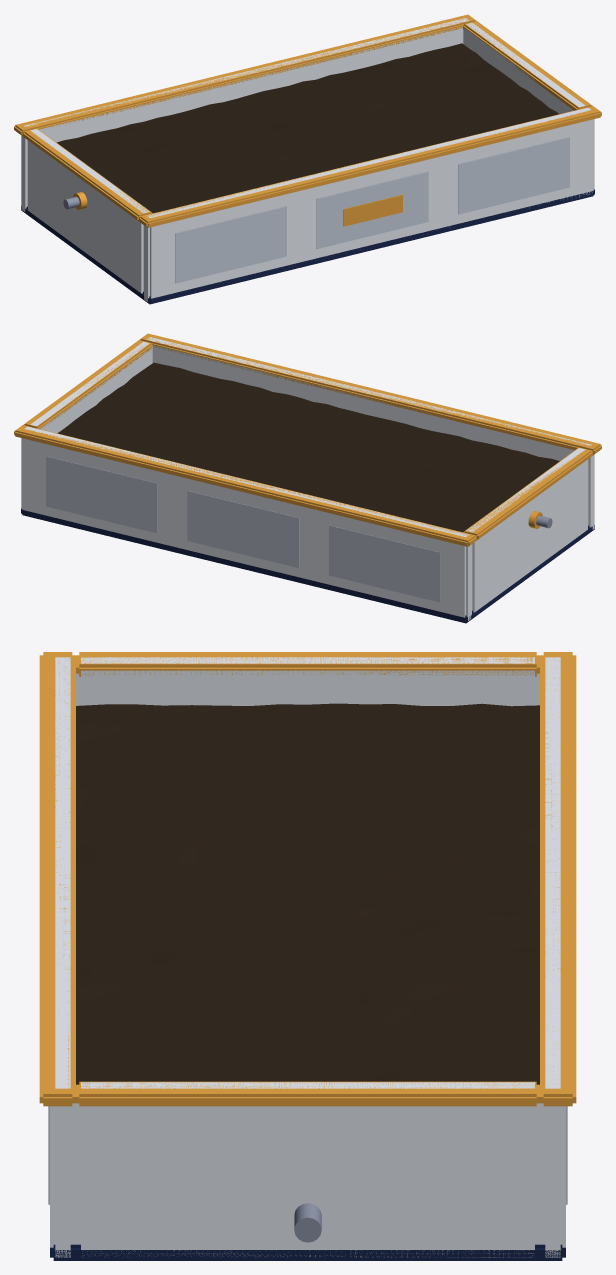
The model's file is planter_tray.glb.
3 renders of one model, top to bottom at view 1: azimuth 30°, elevation 25°; view 2: azimuth 150°, elevation 25°; view 3: azimuth 270°, elevation 25°, orthographic. The views are drawn at different scales.
Visible parts, largest first — view 1: Soil_Dark, Body_White, Body_Dim, Trim_Gold, Base_Midnight; view 2: Soil_Dark, Body_White, Body_Dim, Trim_Gold, Base_Midnight; view 3: Soil_Dark, Body_White, Trim_Gold, Base_Midnight, Steel.
Part boxes in pixels (x1=…): Soil_Dark: x1=57, y1=43, x2=559, y2=213; Body_White: x1=21, y1=18, x2=594, y2=301; Body_Dim: x1=175, y1=137, x2=569, y2=283; Trim_Gold: x1=14, y1=14, x2=601, y2=227; Base_Midnight: x1=21, y1=189, x2=594, y2=304; Soil_Dark: x1=57, y1=362, x2=559, y2=532; Body_White: x1=21, y1=337, x2=594, y2=620; Body_Dim: x1=46, y1=456, x2=440, y2=602; Trim_Gold: x1=14, y1=333, x2=601, y2=546; Base_Midnight: x1=21, y1=508, x2=594, y2=623; Soil_Dark: x1=76, y1=703, x2=539, y2=1084; Body_White: x1=50, y1=657, x2=565, y2=1257; Trim_Gold: x1=39, y1=652, x2=576, y2=1106; Base_Midnight: x1=50, y1=1244, x2=565, y2=1260; Steel: x1=294, y1=1203, x2=321, y2=1242.
Bounding box in the file's own units: 1.29 × 0.22 × 0.624.
